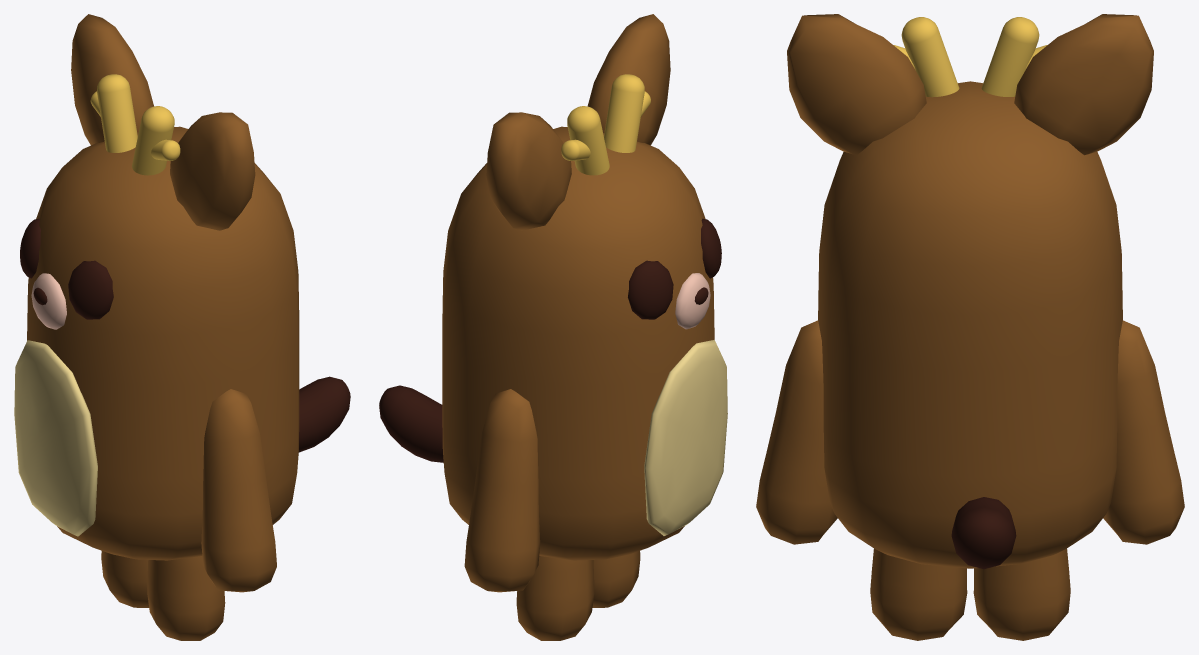
File: Charecter_1.fbx
The picture shows the model from 3 angles, left to right: view 1: azimuth 30°, elevation 25°; view 2: azimuth 150°, elevation 25°; view 3: azimuth 270°, elevation 25°; orthographic projection. The views are drawn at different scales.
Visible parts, largest first — view 1: char_3; view 2: char_3; view 3: char_3.
Part boxes in pixels (bbox=[...]): char_3: bbox=[14, 14, 350, 640]; char_3: bbox=[379, 14, 727, 640]; char_3: bbox=[756, 14, 1184, 640].
Bounding box in the file's own units: 177 × 294 × 184.
